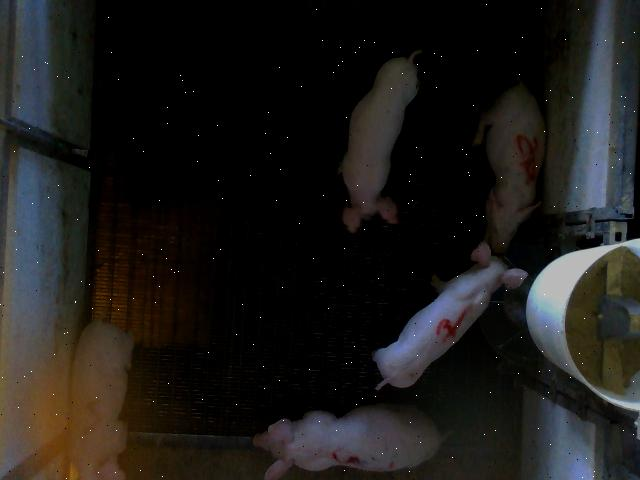pig-2: (69, 320, 134, 478)
pig-3: (255, 405, 442, 479)
pig-4: (372, 241, 528, 388)
pig-5: (471, 76, 545, 254)
